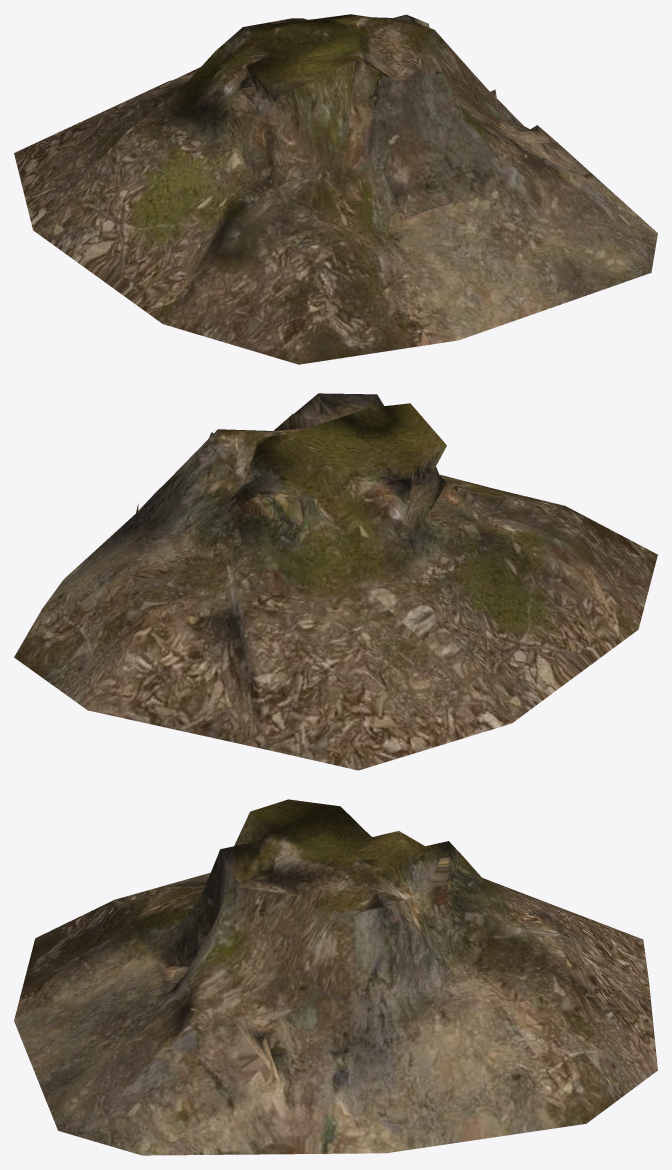
File: stump.glb
The picture shows the model from 3 angles, top to bottom: view 1: azimuth 30°, elevation 25°; view 2: azimuth 150°, elevation 25°; view 3: azimuth 270°, elevation 25°; orthographic projection. The views are drawn at different scales.
Parts seen in each view (by area): view 1: tree_stump_01; view 2: tree_stump_01; view 3: tree_stump_01.
Part boxes in pixels (x1,y1,x2,y2): tree_stump_01: (14, 14, 657, 364); tree_stump_01: (14, 393, 657, 770); tree_stump_01: (14, 799, 657, 1155).
Size of the model in its own units: 1.42 by 0.5551 by 1.59.
1 material, 1 textured.
